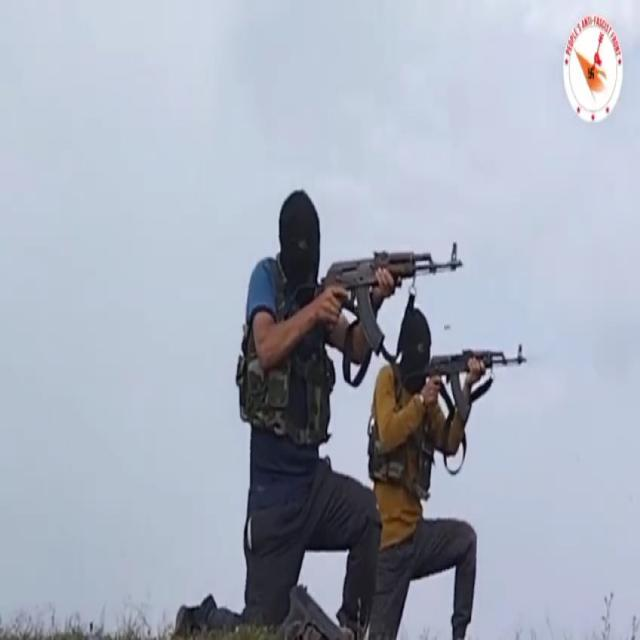Militant: (223, 181, 388, 640), (366, 264, 509, 640)
